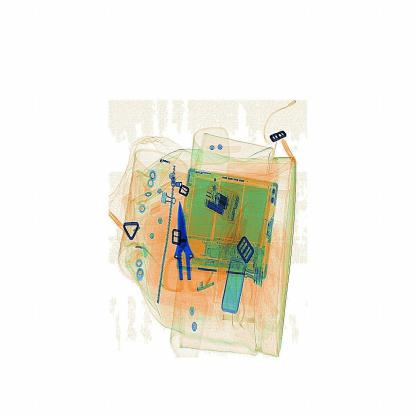gun: (157, 193, 211, 295)
